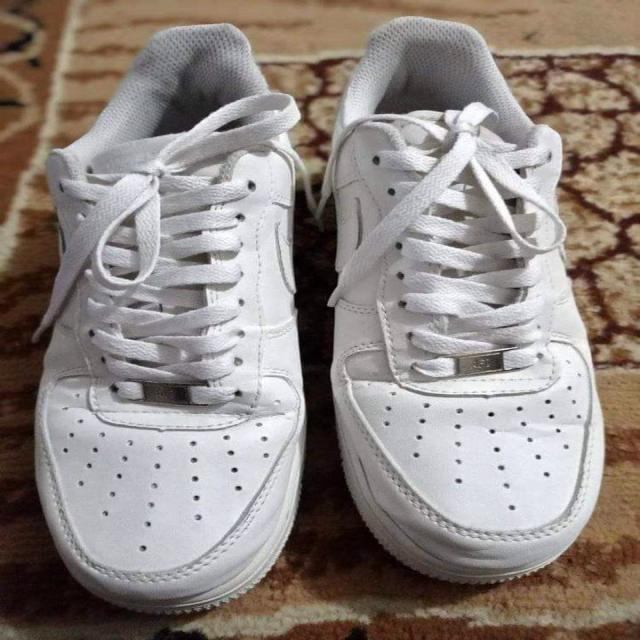nike fake air force: (31, 21, 316, 616), (312, 13, 607, 582)
